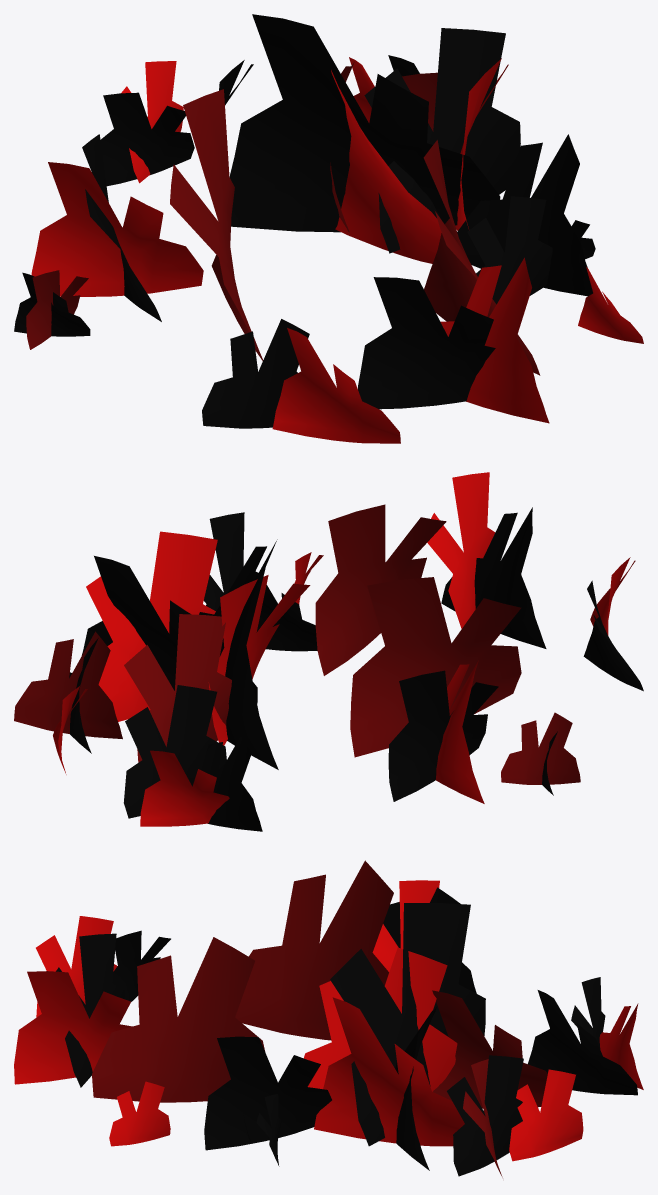
The model's file is SM_GrassClump.FBX.
The picture shows the model from 3 angles, top to bottom: view 1: azimuth 30°, elevation 25°; view 2: azimuth 150°, elevation 25°; view 3: azimuth 270°, elevation 25°; orthographic projection. The views are drawn at different scales.
Parts seen in each view (by area): view 1: SM_GrassClump; view 2: SM_GrassClump; view 3: SM_GrassClump.
Boxes of the visible parts, x1,y1,x2,y2 form: SM_GrassClump: (14,14,643,443); SM_GrassClump: (14,472,643,831); SM_GrassClump: (14,860,643,1177).
Bounding box in the file's own units: 210 × 251 × 82.29.
